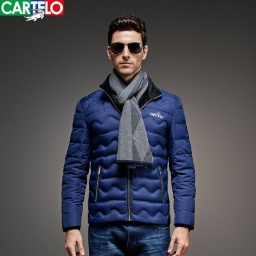face: (106, 17, 152, 76)
